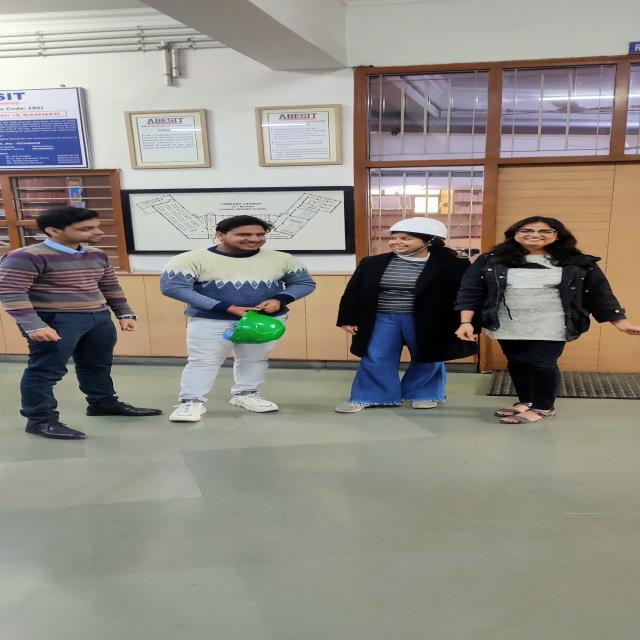no jacket: (333, 217, 458, 413)
unsafe: (455, 215, 640, 424), (0, 207, 161, 439), (165, 215, 315, 422)
